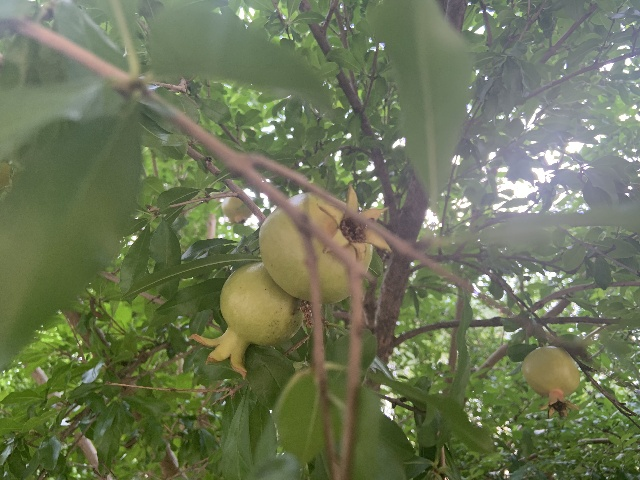mid-growth: (258, 181, 391, 303), (188, 262, 303, 379), (521, 346, 580, 418), (221, 196, 252, 224)
